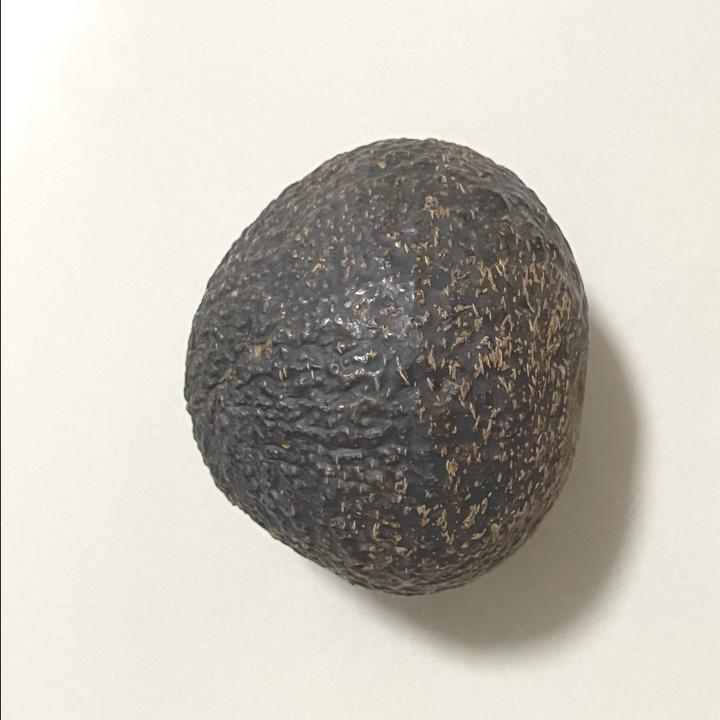Level3: (170, 126, 598, 608)
